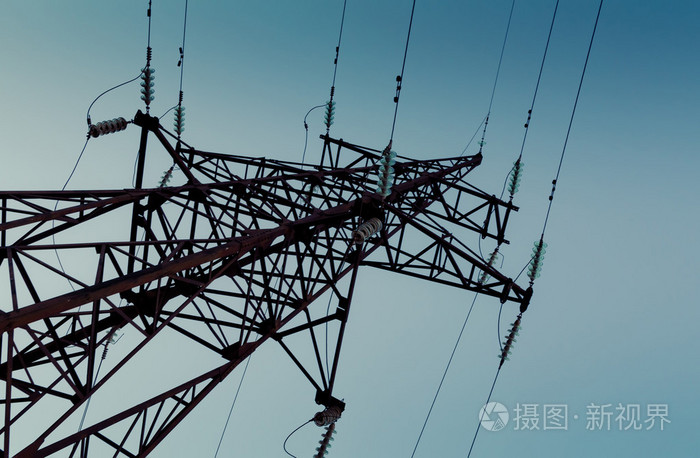insulator: (377, 149, 400, 197), (497, 320, 522, 361), (526, 239, 547, 279), (313, 425, 338, 458), (505, 160, 526, 194), (138, 65, 156, 104), (92, 118, 128, 137), (351, 219, 382, 241), (323, 99, 338, 129), (172, 106, 185, 135), (156, 169, 172, 187)
